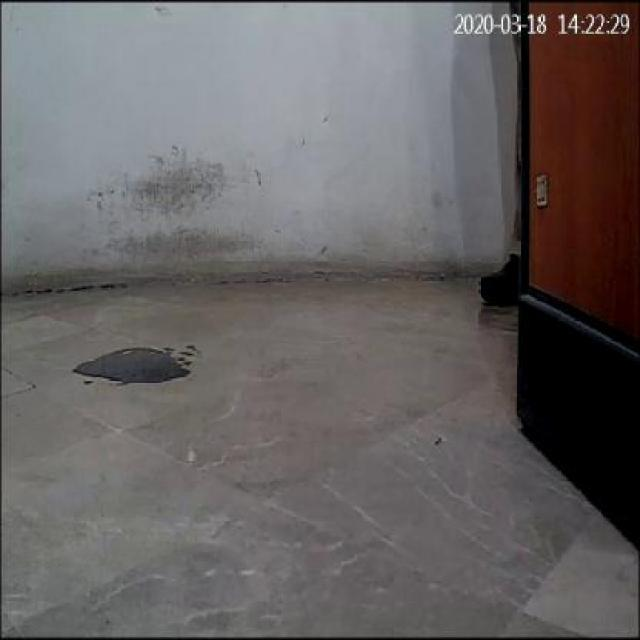spill: (68, 336, 198, 384)
